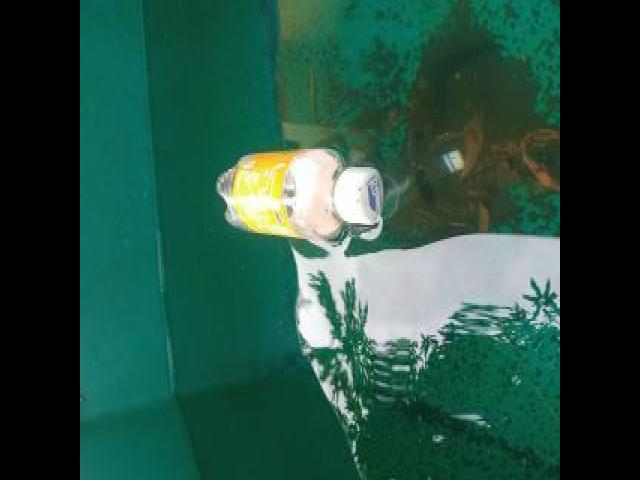Bottle: (210, 141, 388, 246)
